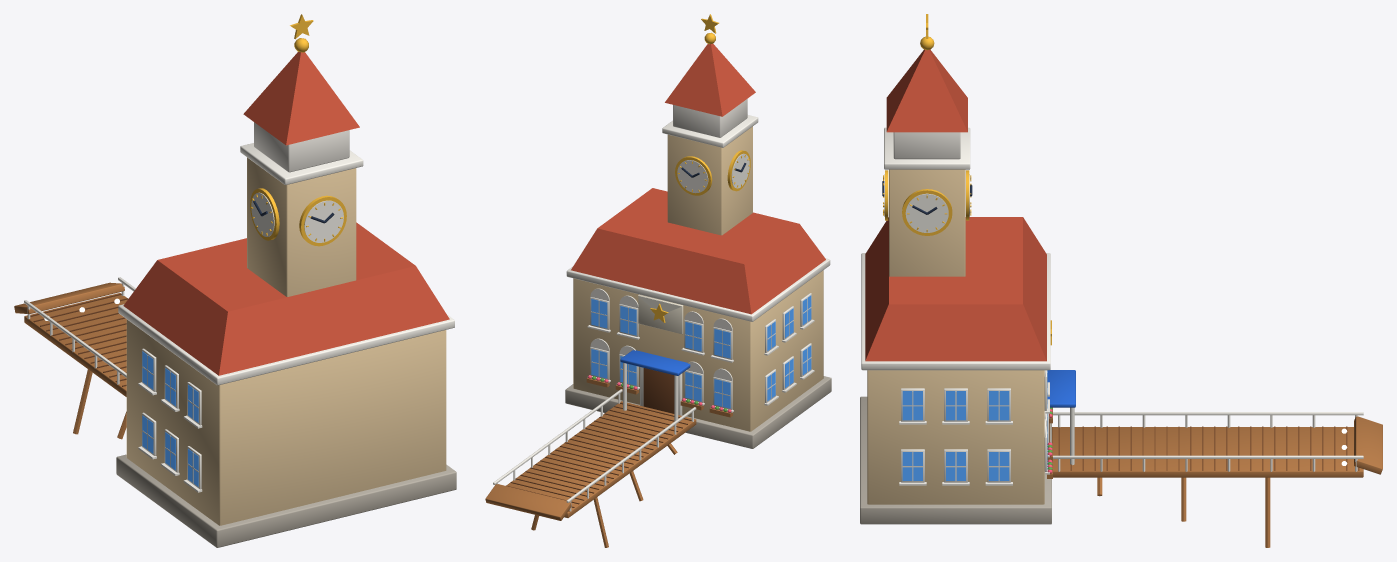
File: postamt.glb
3 renders of one model, left to right at view 1: azimuth 30°, elevation 25°; view 2: azimuth 150°, elevation 25°; view 3: azimuth 270°, elevation 25°, orthographic. The views are drawn at different scales.
Parts seen in each view (by area): view 1: postamt_lod0; view 2: postamt_lod0; view 3: postamt_lod0.
Boxes of the visible parts, x1,y1,x2,y2 form: postamt_lod0: (14, 14, 456, 547); postamt_lod0: (485, 14, 831, 547); postamt_lod0: (860, 14, 1382, 547).
Size of what is drawn, in the model's own units: 11 by 23.58 by 21.8.
